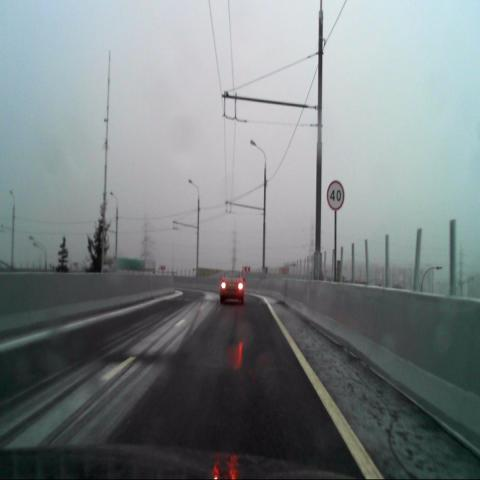3_24: (327, 180, 345, 211)
